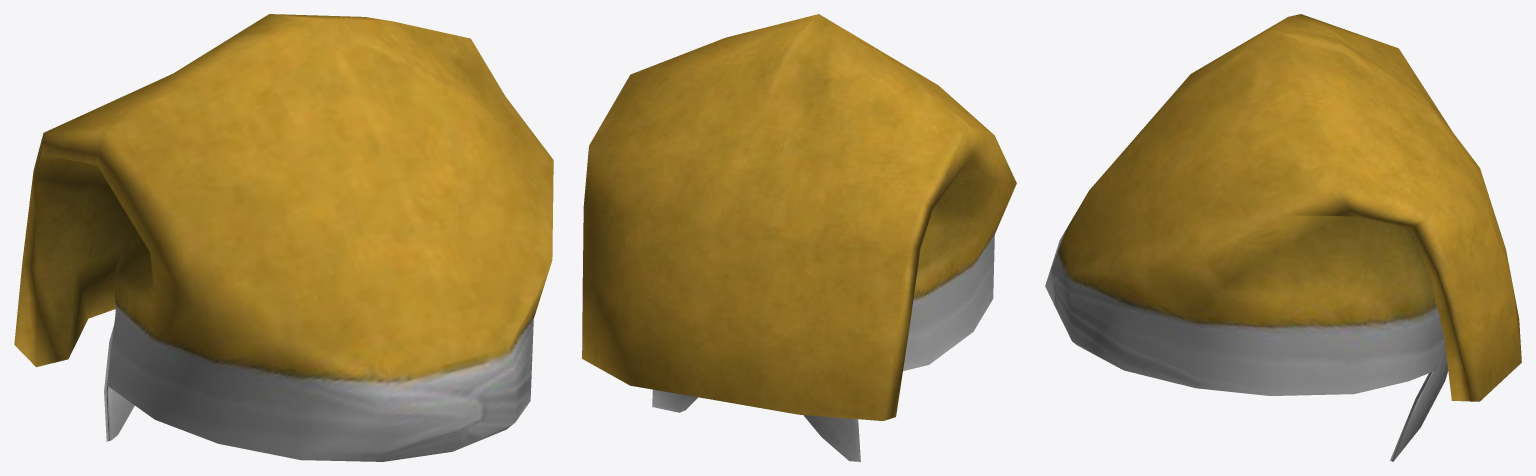
The model's file is rider-helmet-slice-championstablesoldiers.glb.
The picture shows the model from 3 angles, left to right: view 1: azimuth 30°, elevation 25°; view 2: azimuth 150°, elevation 25°; view 3: azimuth 270°, elevation 25°; orthographic projection. The views are drawn at different scales.
Size of the model in its own units: 0.2459 by 0.2636 by 0.3004.
1 material, 1 textured.
